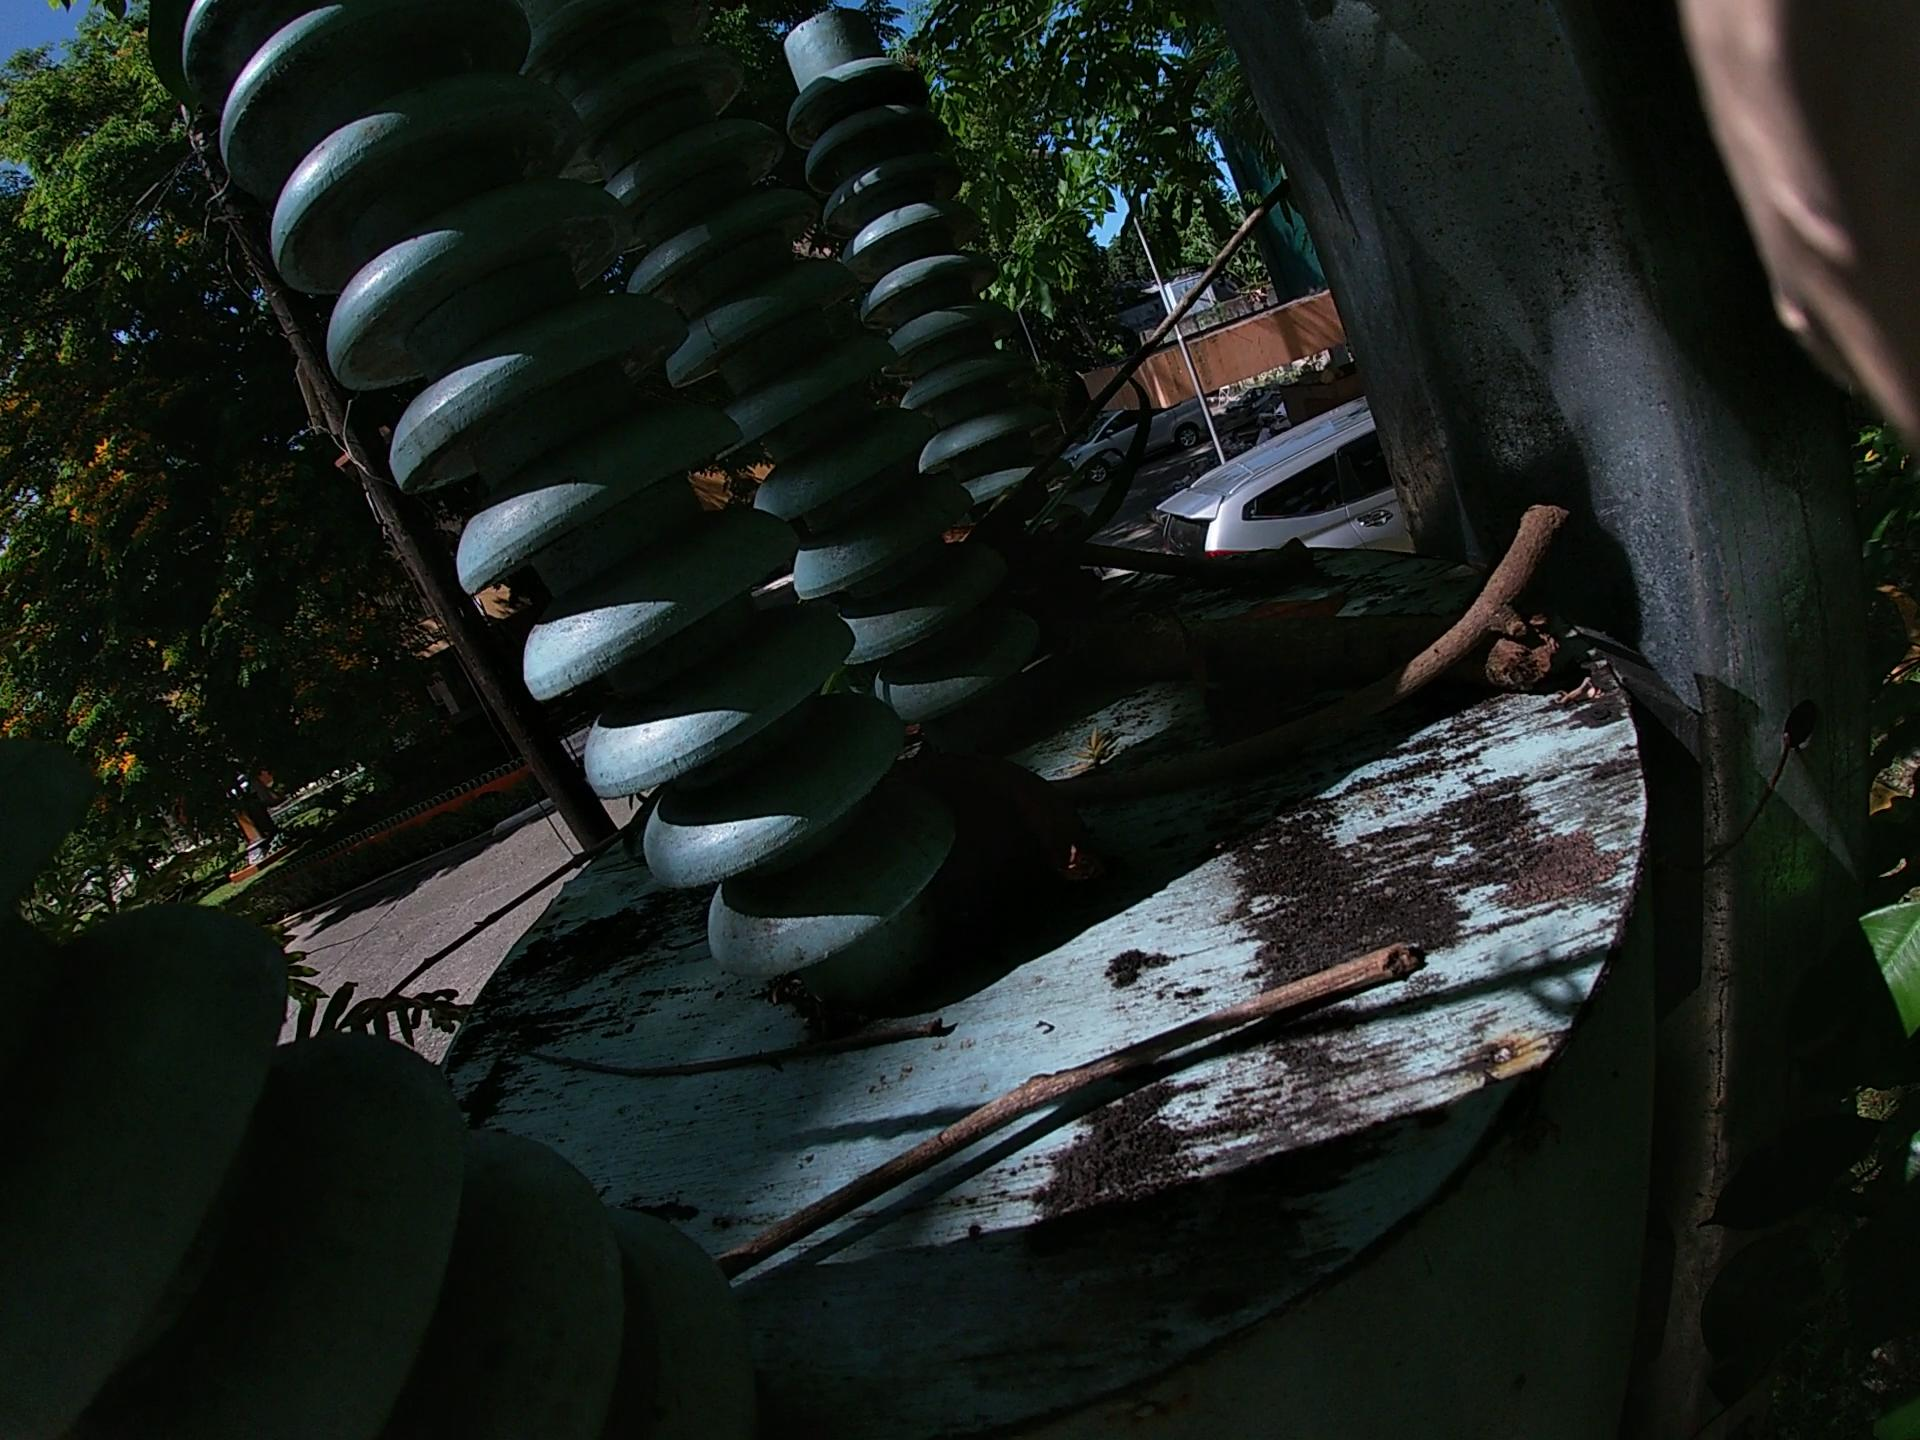branch with leaves: (996, 504, 1519, 720)
leaf: (1194, 532, 1394, 715)
mahogany fruit: (962, 436, 1120, 706), (918, 687, 1079, 920)
tree branch: (735, 991, 1330, 1274), (993, 620, 1627, 864), (485, 1019, 968, 1113)
